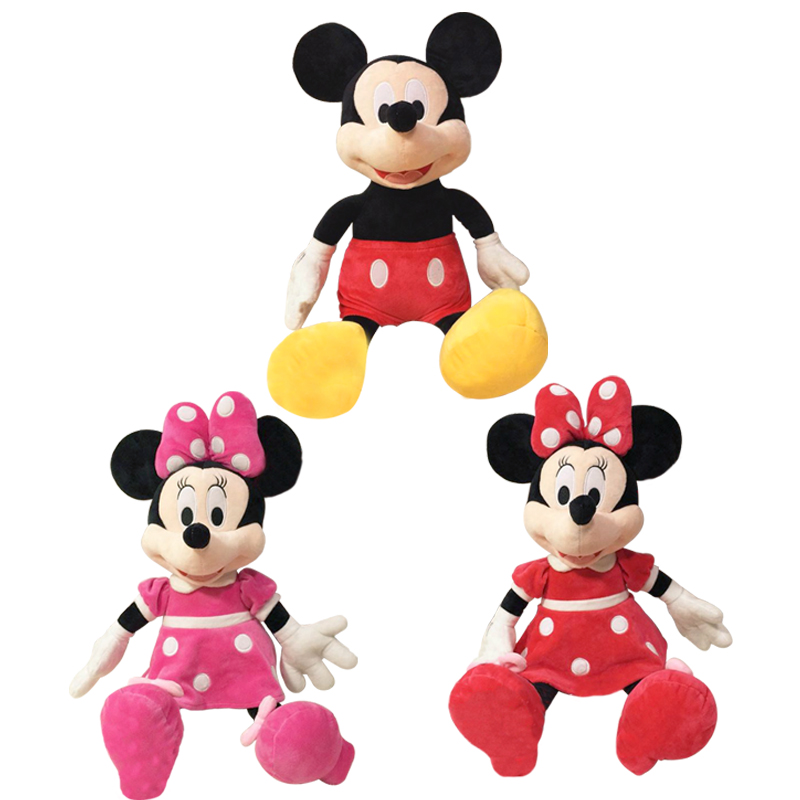Mickey: (288, 9, 508, 193)
